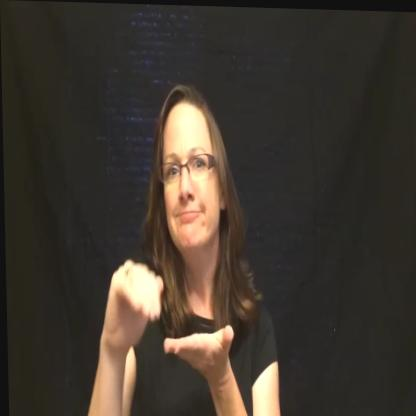ExcuseMe: (72, 221, 239, 378)
